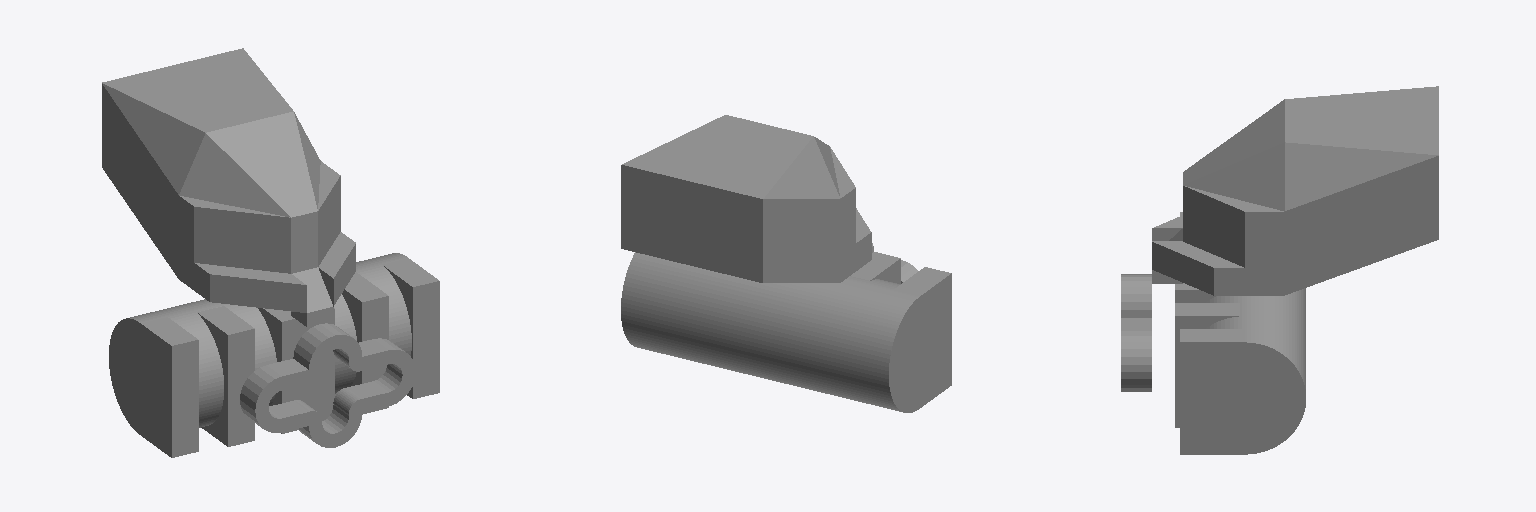
File: mahri_head.1.obj
The picture shows the model from 3 angles: view 1: azimuth 30°, elevation 25°; view 2: azimuth 150°, elevation 25°; view 3: azimuth 270°, elevation 25°; orthographic projection.
Visible parts, largest first — view 1: Mesh1_Model; view 2: Mesh1_Model; view 3: Mesh1_Model.
Part boxes in pixels (x1,y1,x2,y2): Mesh1_Model: (102, 48, 439, 457); Mesh1_Model: (621, 115, 951, 412); Mesh1_Model: (1121, 86, 1438, 454).
Size of the model in its own units: 0.8865 by 0.8423 by 0.9125.